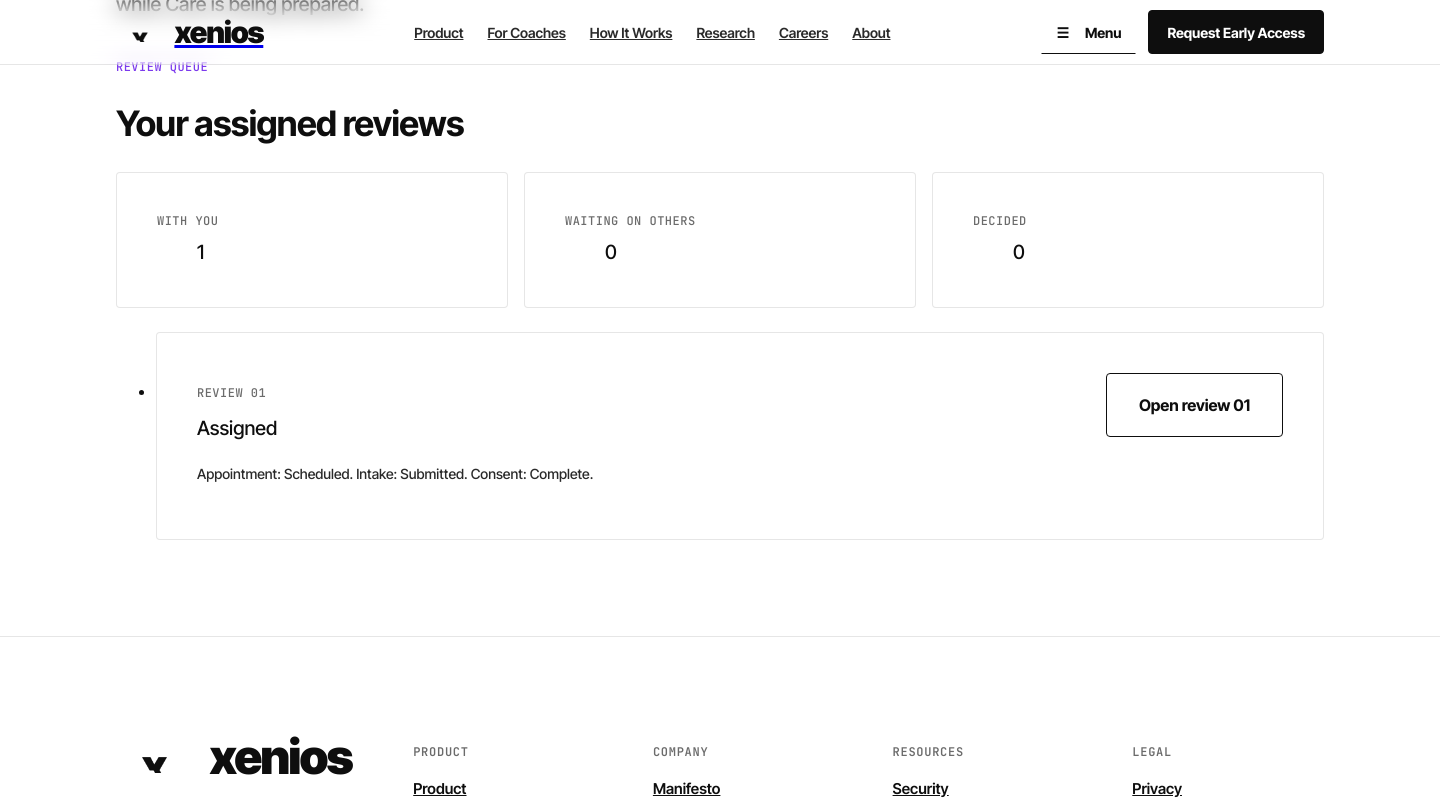
Test: Care clinician review queue, states › opens a review and shows intake, appointment, consent, and review status
(page scrolled)
Click the button "Open review 01". click: (1194, 405)
box: [1106,373,1283,437]
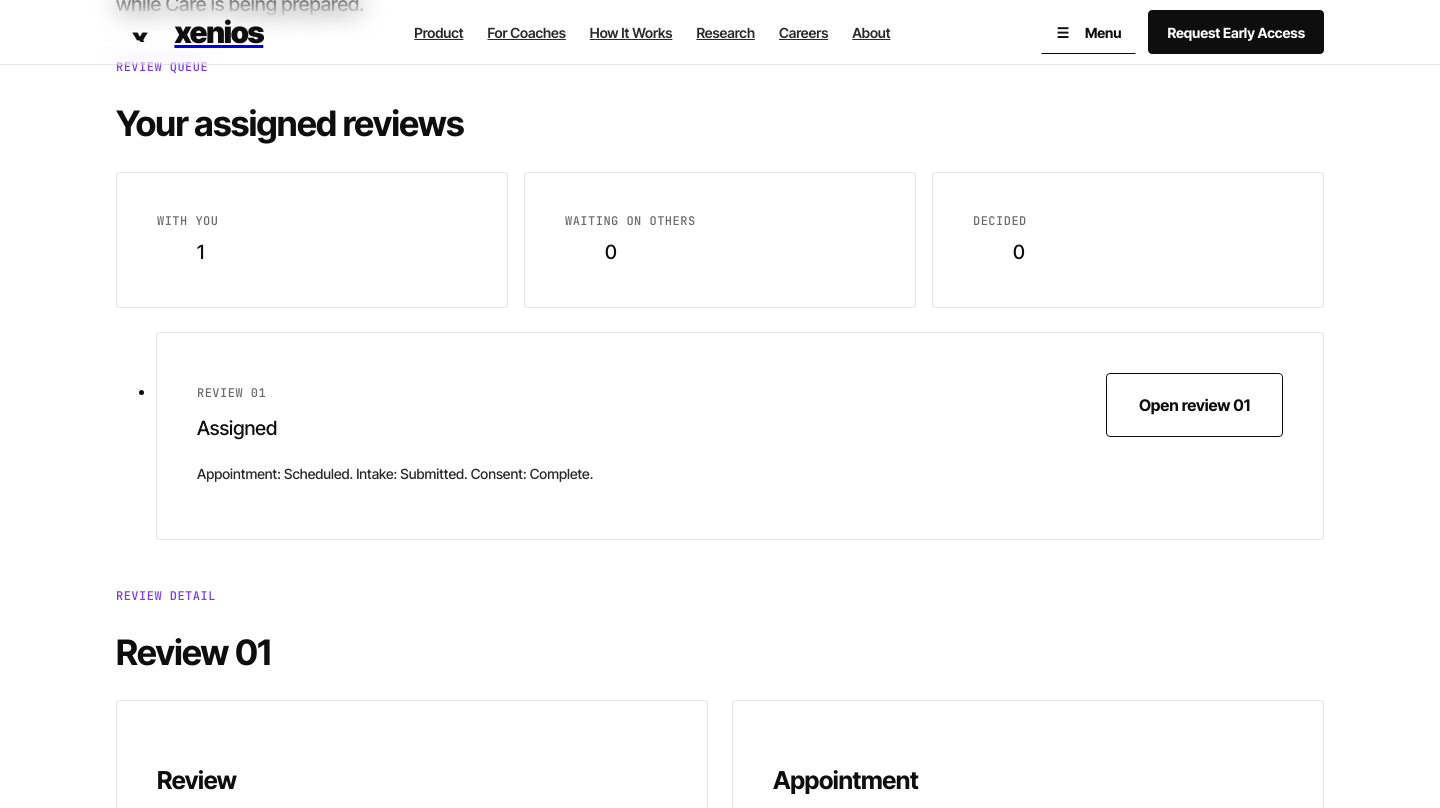
Check: the text "REVIEW DETAIL" is shown, box [116,588,216,604]
